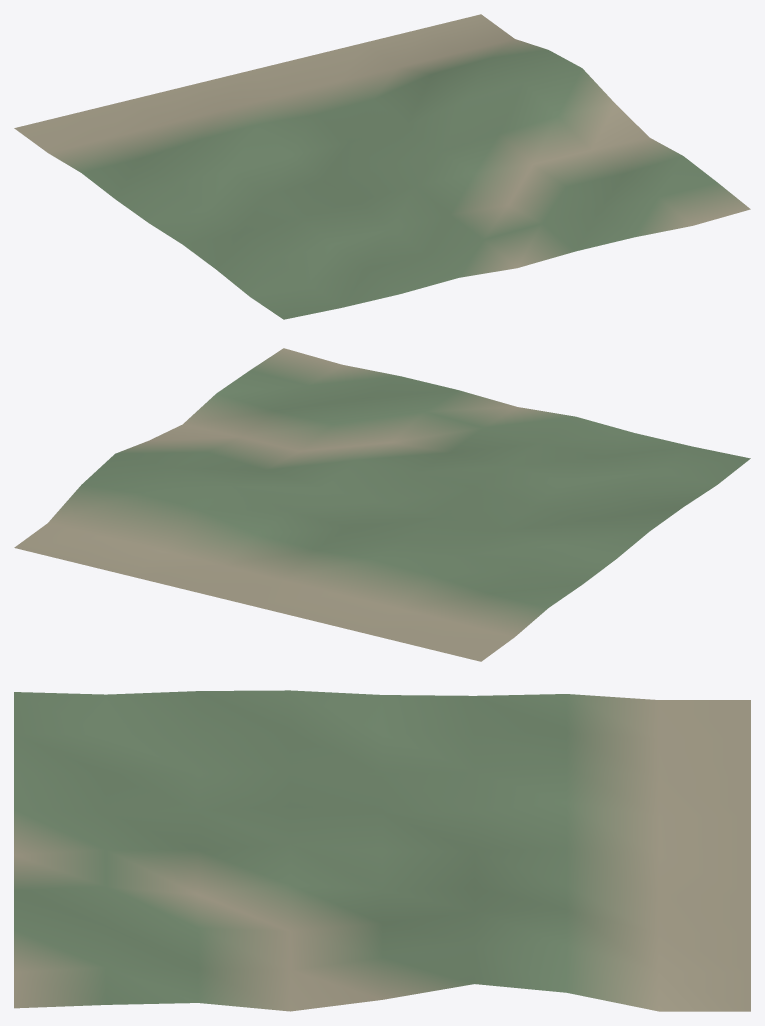
3 renders of one model, top to bottom at view 1: azimuth 30°, elevation 25°; view 2: azimuth 150°, elevation 25°; view 3: azimuth 270°, elevation 25°, orthographic. The views are drawn at different scales.
Parts seen in each view (by area): view 1: Lo; view 2: Lo; view 3: Lo.
Part boxes in pixels (left/top/right/bottom): Lo: left=14, top=14, right=750, bottom=319; Lo: left=14, top=348, right=750, bottom=661; Lo: left=14, top=690, right=750, bottom=1011.
Size of the model in its own units: 256 by 10.52 by 256.
